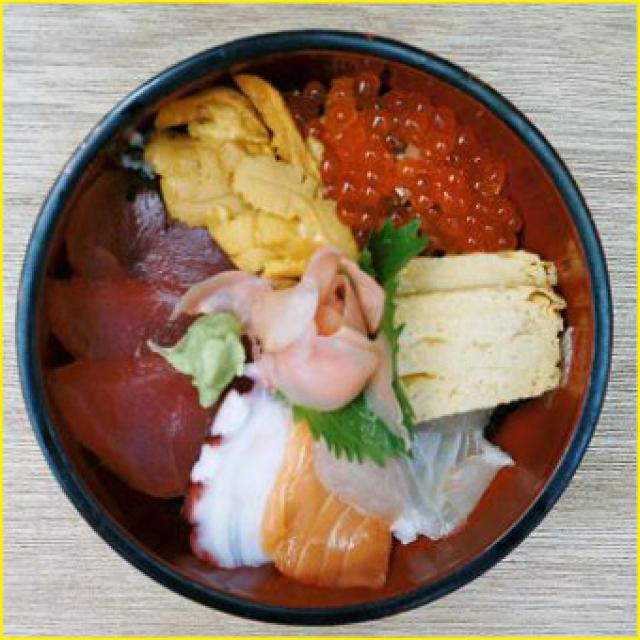刺身生食: (15, 32, 614, 625)
